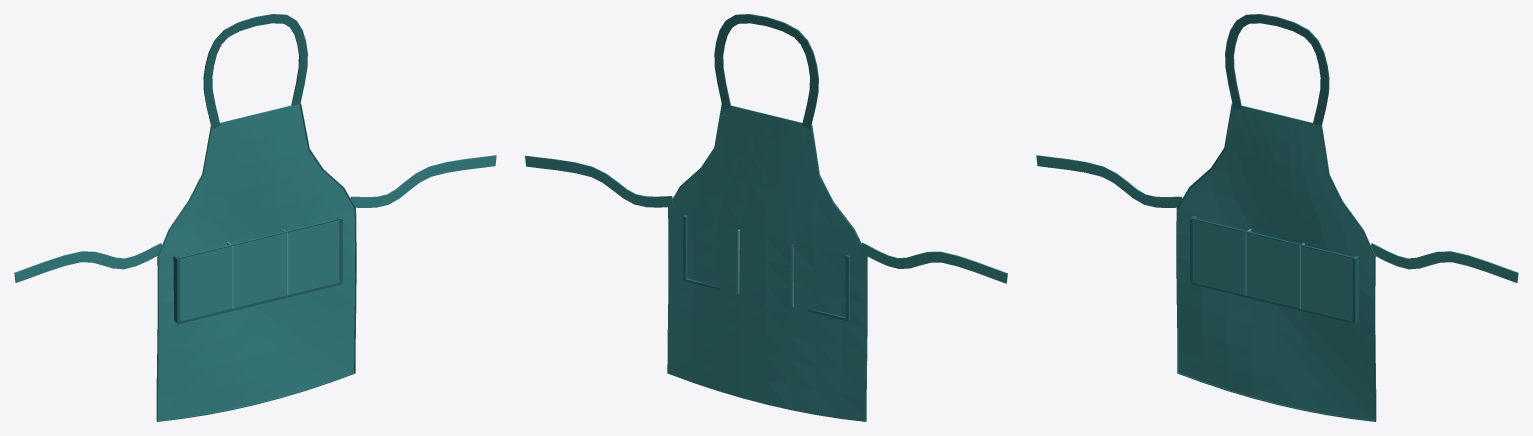
The model's file is full.fbx.
3 renders of one model, left to right at view 1: azimuth 30°, elevation 25°; view 2: azimuth 150°, elevation 25°; view 3: azimuth 330°, elevation 25°, orthographic.
Visible parts, largest first — view 1: Continuous shaped bib and skirt cloth, Broad sewn pocket face, Closed neck loop, Free waist tie -1, Free waist tie 1, Double side hem -1, Double side hem 1, Pocket bottom gusset, Pocket side gusset -0.247; view 2: Continuous shaped bib and skirt cloth, Closed neck loop, Free waist tie 1, Free waist tie -1, Double side hem -1; view 3: Continuous shaped bib and skirt cloth, Broad sewn pocket face, Closed neck loop, Free waist tie 1, Free waist tie -1, Double side hem 1, Double side hem -1, Pocket bottom gusset, Pocket side gusset 0.247.
Part boxes in pixels (<box>): Continuous shaped bib and skirt cloth: <box>158,104,354,420</box>; Broad sewn pocket face: <box>177,218,341,320</box>; Closed neck loop: <box>203,14,307,129</box>; Free waist tie -1: <box>14,243,161,282</box>; Free waist tie 1: <box>350,155,496,207</box>; Double side hem -1: <box>156,125,212,421</box>; Double side hem 1: <box>300,103,356,373</box>; Pocket bottom gusset: <box>176,282,341,324</box>; Pocket side gusset -0.247: <box>173,255,180,322</box>; Continuous shaped bib and skirt cloth: <box>667,105,866,421</box>; Closed neck loop: <box>714,14,818,129</box>; Free waist tie 1: <box>525,155,674,207</box>; Free waist tie -1: <box>860,242,1007,283</box>; Double side hem -1: <box>811,125,867,421</box>; Continuous shaped bib and skirt cloth: <box>1177,105,1374,420</box>; Broad sewn pocket face: <box>1191,218,1355,320</box>; Closed neck loop: <box>1225,14,1329,125</box>; Free waist tie 1: <box>1371,243,1518,282</box>; Free waist tie -1: <box>1036,155,1182,207</box>; Double side hem 1: <box>1320,125,1376,421</box>; Double side hem -1: <box>1176,103,1232,373</box>; Pocket bottom gusset: <box>1191,282,1356,324</box>; Pocket side gusset 0.247: <box>1352,256,1358,322</box>.
Size of the model in its own units: 146 by 112 by 3.21.
